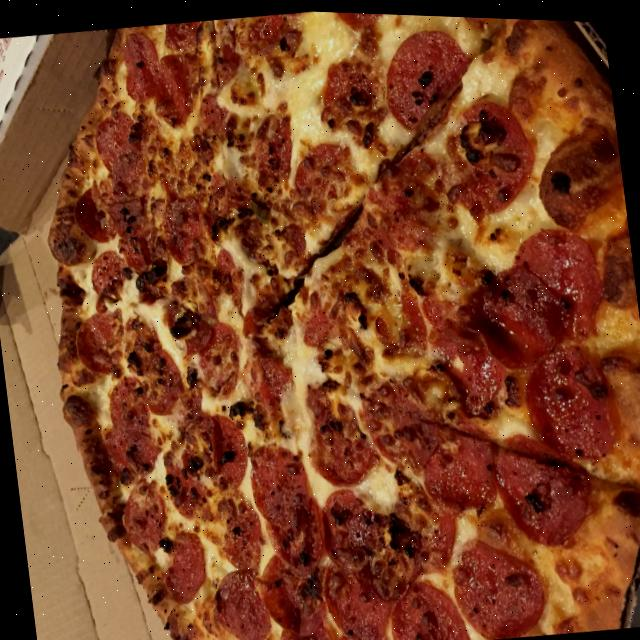pepperoni: (316, 466, 462, 607), (319, 473, 462, 607), (436, 89, 540, 220), (466, 252, 572, 370), (520, 335, 617, 461), (492, 435, 596, 548), (511, 217, 606, 339), (530, 110, 628, 228), (448, 528, 548, 640), (247, 437, 325, 580), (378, 20, 478, 131), (359, 142, 447, 265), (358, 369, 453, 478), (300, 372, 380, 487), (96, 372, 164, 486), (120, 24, 193, 130), (120, 24, 193, 130), (418, 422, 498, 513), (121, 311, 186, 416), (288, 134, 368, 218), (320, 556, 396, 640), (386, 572, 468, 640), (210, 562, 272, 640), (252, 549, 303, 632), (119, 475, 169, 554), (159, 526, 209, 603), (216, 492, 266, 568), (194, 317, 243, 393), (72, 308, 126, 376), (250, 110, 296, 187), (162, 445, 208, 518), (159, 194, 207, 263), (88, 246, 136, 311), (210, 410, 250, 488), (92, 107, 138, 170), (70, 184, 110, 243), (88, 246, 130, 301), (198, 89, 230, 139), (198, 89, 230, 139), (162, 17, 205, 51), (277, 620, 330, 640), (333, 10, 385, 29), (301, 566, 321, 597)
pizza: (17, 0, 640, 640)
